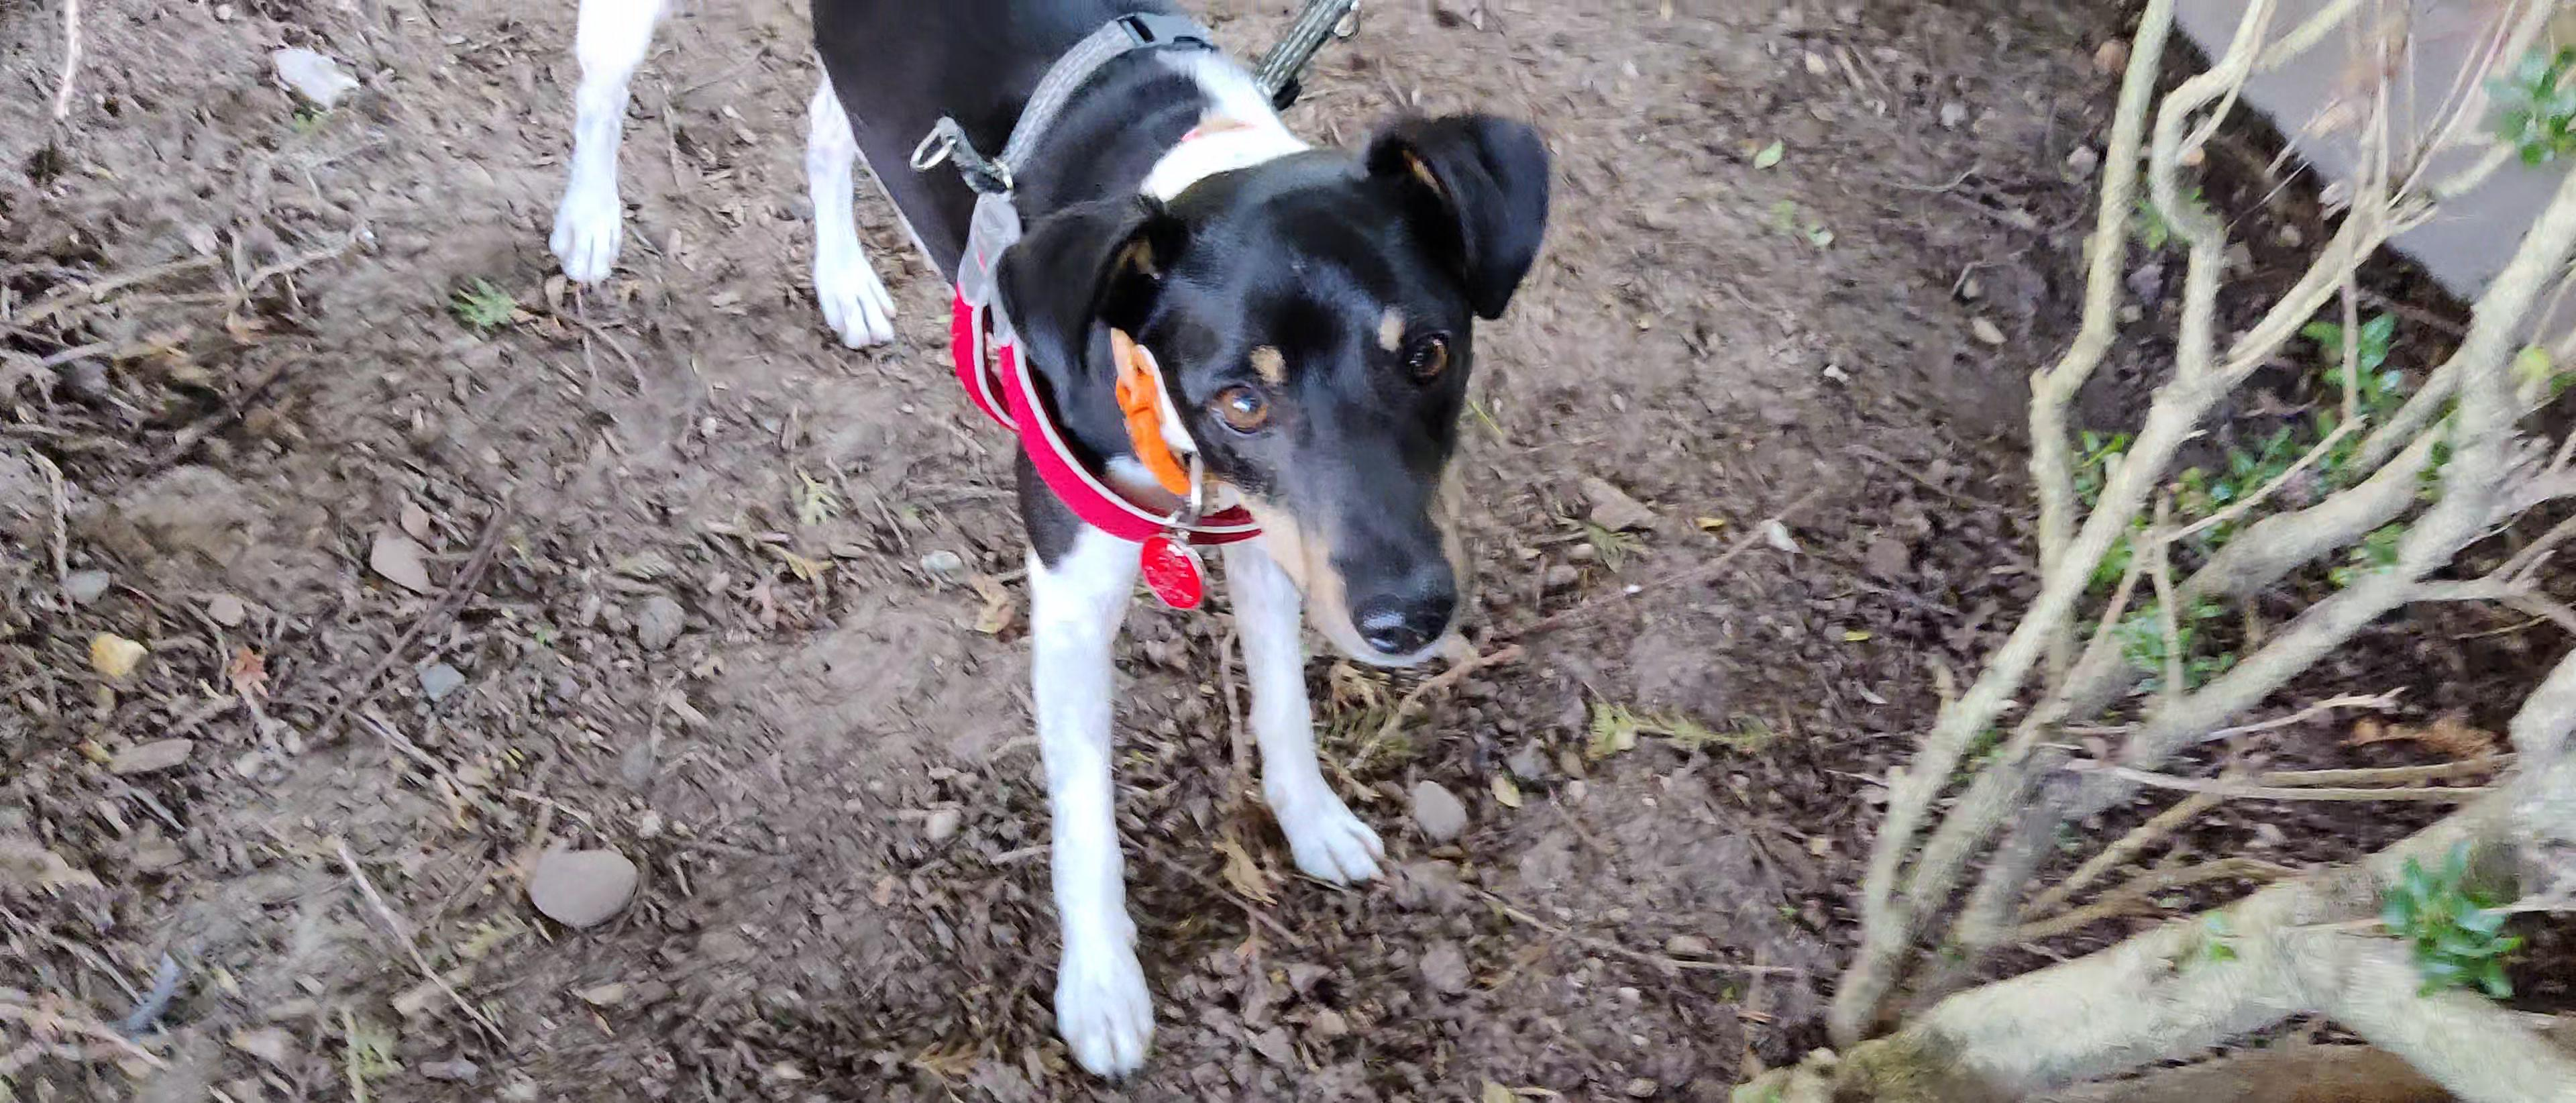Dog: (517, 0, 1566, 1083)
